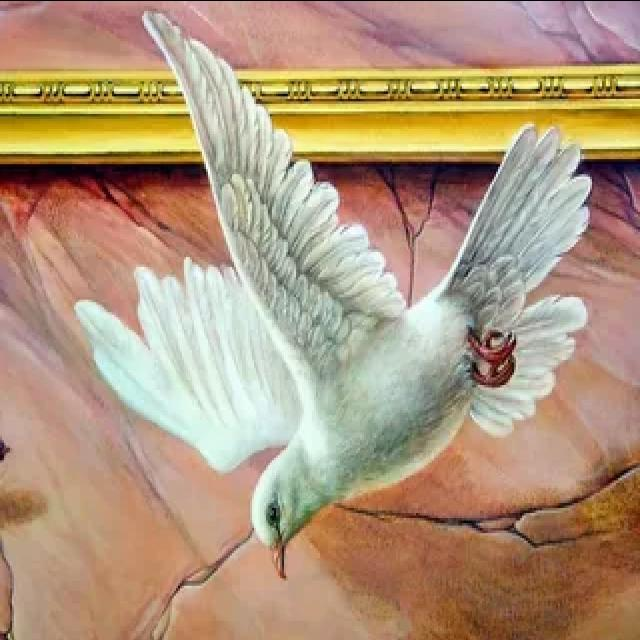pigeon: (63, 1, 608, 594)
